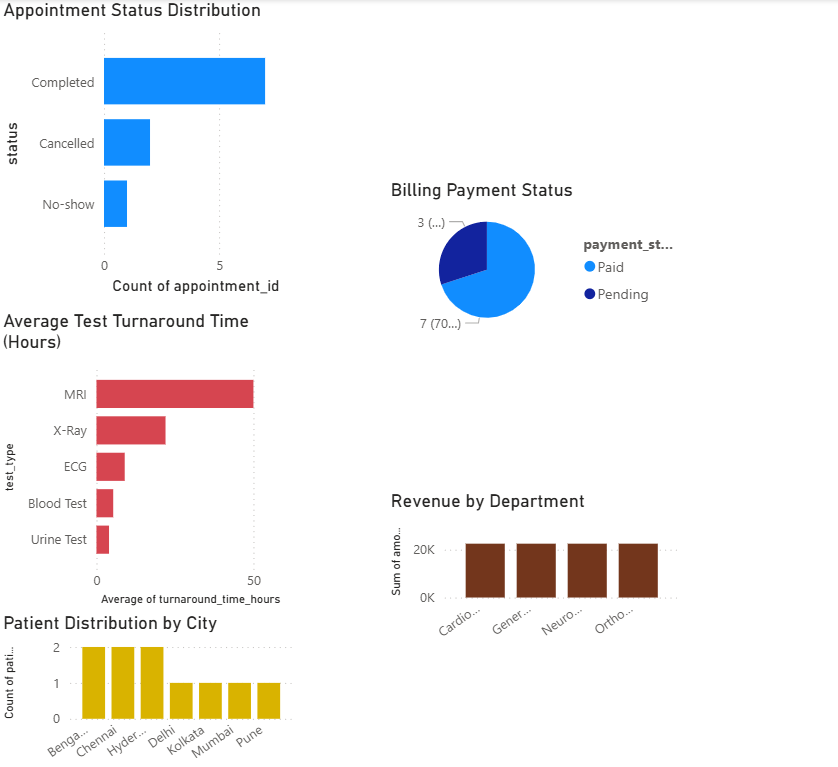

Layout of this report page (visuals, bound fields, positions):
{"tool":"powerbi","page":{"name":"Page 1","canvas":[1280,720],"ordinal":0},"visuals":[{"type":"clusteredBarChart","title":"Appointment Status Distribution","fields":{"Category":["appointments.status"],"Y":["CountNonNull(appointments.appointment_id)"]},"box":[0,0,279.1,280.2],"z":0},{"type":"clusteredBarChart","title":"Average Test Turnaround Time (Hours)","fields":{"Category":["tests.test_type"],"Y":["Avg(tests.turnaround_time_hours)"]},"box":[0,290,279,280],"z":1000},{"type":"clusteredColumnChart","title":"Revenue by Department","fields":{"Category":["appointments.department"],"Y":["Sum(billing.amount)"]},"box":[360.5,457,279.1,150],"z":2000},{"type":"pieChart","title":"Billing Payment Status","fields":{"Category":["billing.payment_status"],"Y":["CountNonNull(billing.bill_id)"]},"box":[360.5,167.4,279.1,150],"z":3000},{"type":"clusteredColumnChart","title":"Patient Distribution by City","fields":{"Category":["patients.city"],"Y":["CountNonNull(patients.patient_id)"]},"box":[0,569.8,279.1,150],"z":4000}]}

Visuals, with their boxes on the page's 1280x720 design canvas (x1, y1, x2, y2). These are canvas units, not pixel positions in the 838x767 screenshot, which may show the page scaled, cropped or inside an application window:
"Appointment Status Distribution" clusteredBarChart: x1=0 y1=0 x2=279 y2=280
"Average Test Turnaround Time (Hours)" clusteredBarChart: x1=0 y1=290 x2=279 y2=570
"Revenue by Department" clusteredColumnChart: x1=360 y1=457 x2=640 y2=607
"Billing Payment Status" pieChart: x1=360 y1=167 x2=640 y2=317
"Patient Distribution by City" clusteredColumnChart: x1=0 y1=570 x2=279 y2=720
